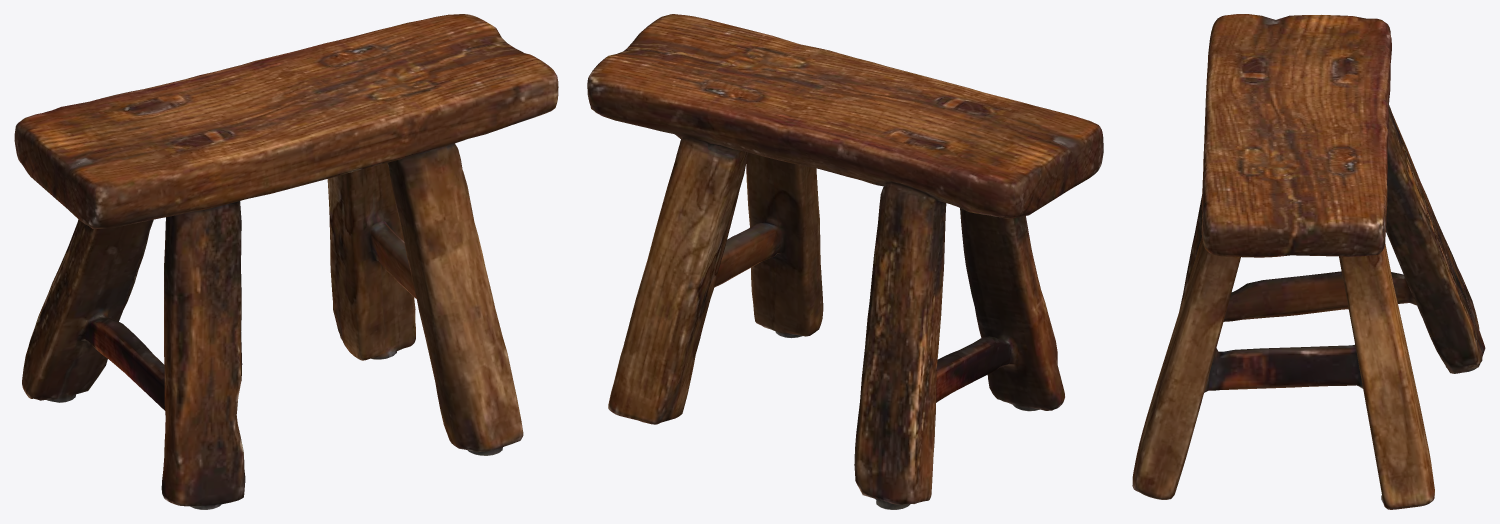
The model's file is wooden_stool_02.glb.
3 views of the same model, side by side, from view 1: azimuth 30°, elevation 25°; view 2: azimuth 150°, elevation 25°; view 3: azimuth 270°, elevation 25° (orthographic). The views are drawn at different scales.
Visible parts, largest first — view 1: wooden_stool_02; view 2: wooden_stool_02; view 3: wooden_stool_02.
Part boxes in pixels (box(x1,y1,x2,y2)): wooden_stool_02: box(14, 14, 558, 509); wooden_stool_02: box(587, 14, 1103, 509); wooden_stool_02: box(1132, 14, 1485, 509).
Size of the model in its own units: 0.2652 by 0.1819 by 0.1831.
1 material, 1 textured.
